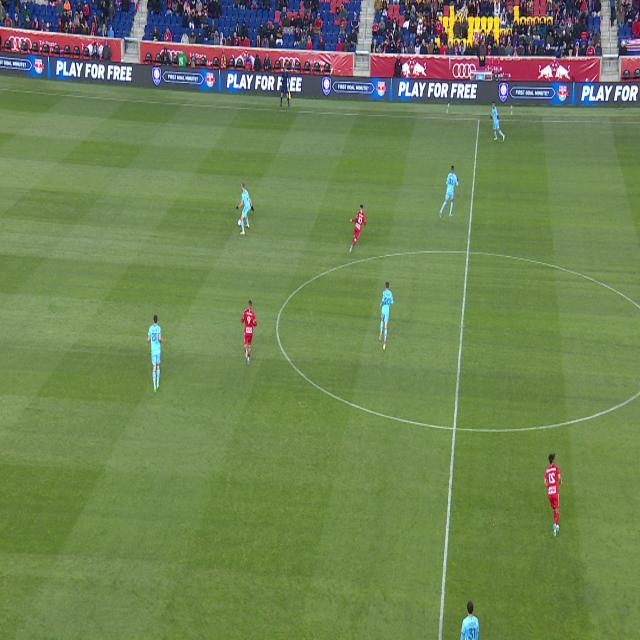football: (249, 219, 252, 226)
player: (545, 454, 561, 537), (148, 315, 162, 393), (241, 300, 257, 364), (379, 282, 394, 350), (439, 166, 458, 218), (236, 182, 254, 235), (349, 204, 366, 253), (460, 601, 479, 640), (491, 101, 505, 142)
